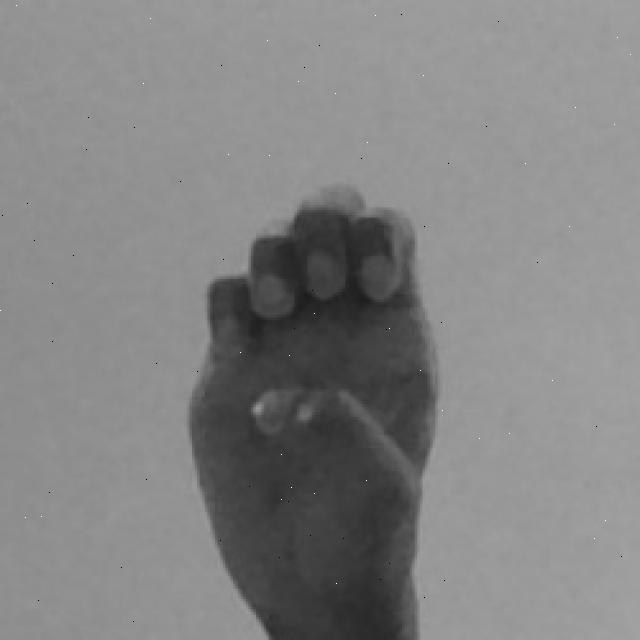E: (179, 176, 450, 640)
